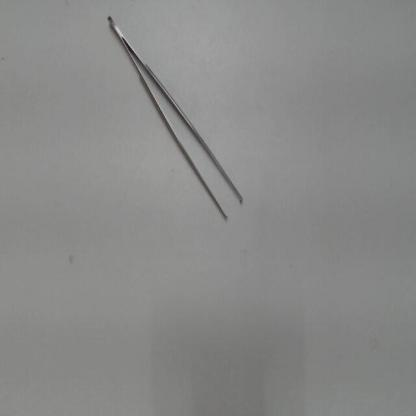Gillies Toothed Dissector: (98, 2, 252, 235)
